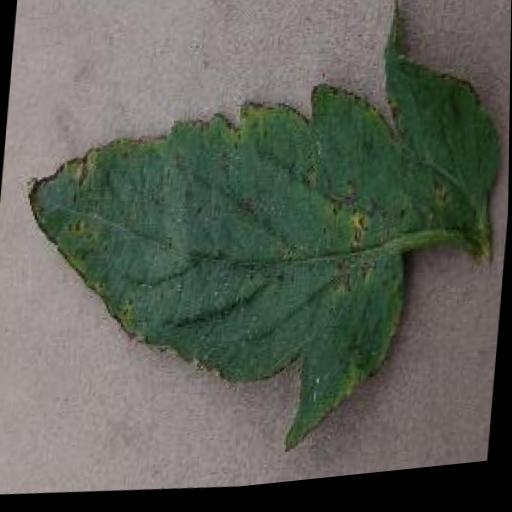Bacterial Spot: (0, 0, 512, 500)
